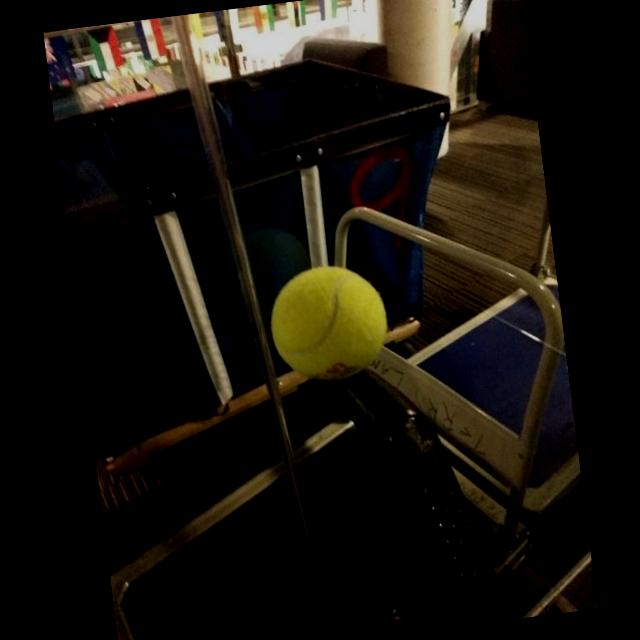tennis-ball: (265, 258, 395, 388)
